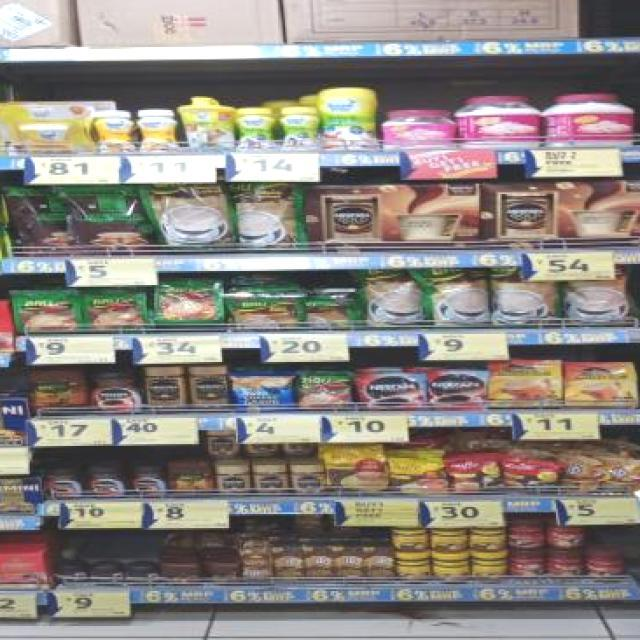Coffee: (486, 359, 563, 406), (563, 362, 635, 406), (359, 374, 426, 408), (92, 372, 144, 415), (426, 372, 484, 408), (144, 368, 188, 414), (189, 366, 229, 414), (43, 468, 83, 500), (128, 467, 168, 498), (86, 468, 126, 499), (292, 466, 324, 498), (216, 466, 249, 497), (254, 466, 286, 496), (210, 430, 237, 457), (90, 562, 123, 582), (55, 564, 88, 583), (130, 563, 160, 582)
